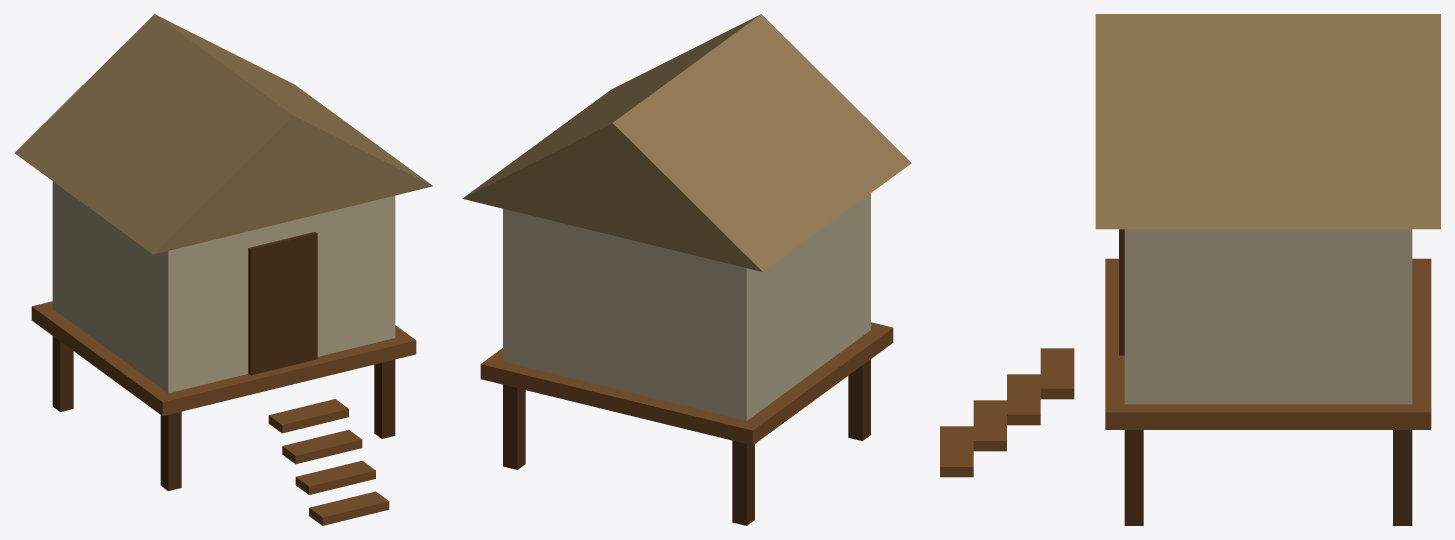
The model's file is fisher_hut.glb.
3 renders of one model, left to right at view 1: azimuth 30°, elevation 25°; view 2: azimuth 150°, elevation 25°; view 3: azimuth 270°, elevation 25°, orthographic. The views are drawn at different scales.
Parts seen in each view (by area): view 1: model; view 2: model; view 3: model.
Part boxes in pixels (<box>): model: <box>15,14,433,525</box>; model: <box>462,14,911,525</box>; model: <box>940,14,1440,525</box>.
Size of the model in its own units: 4.2 by 5.1 by 5.22.
